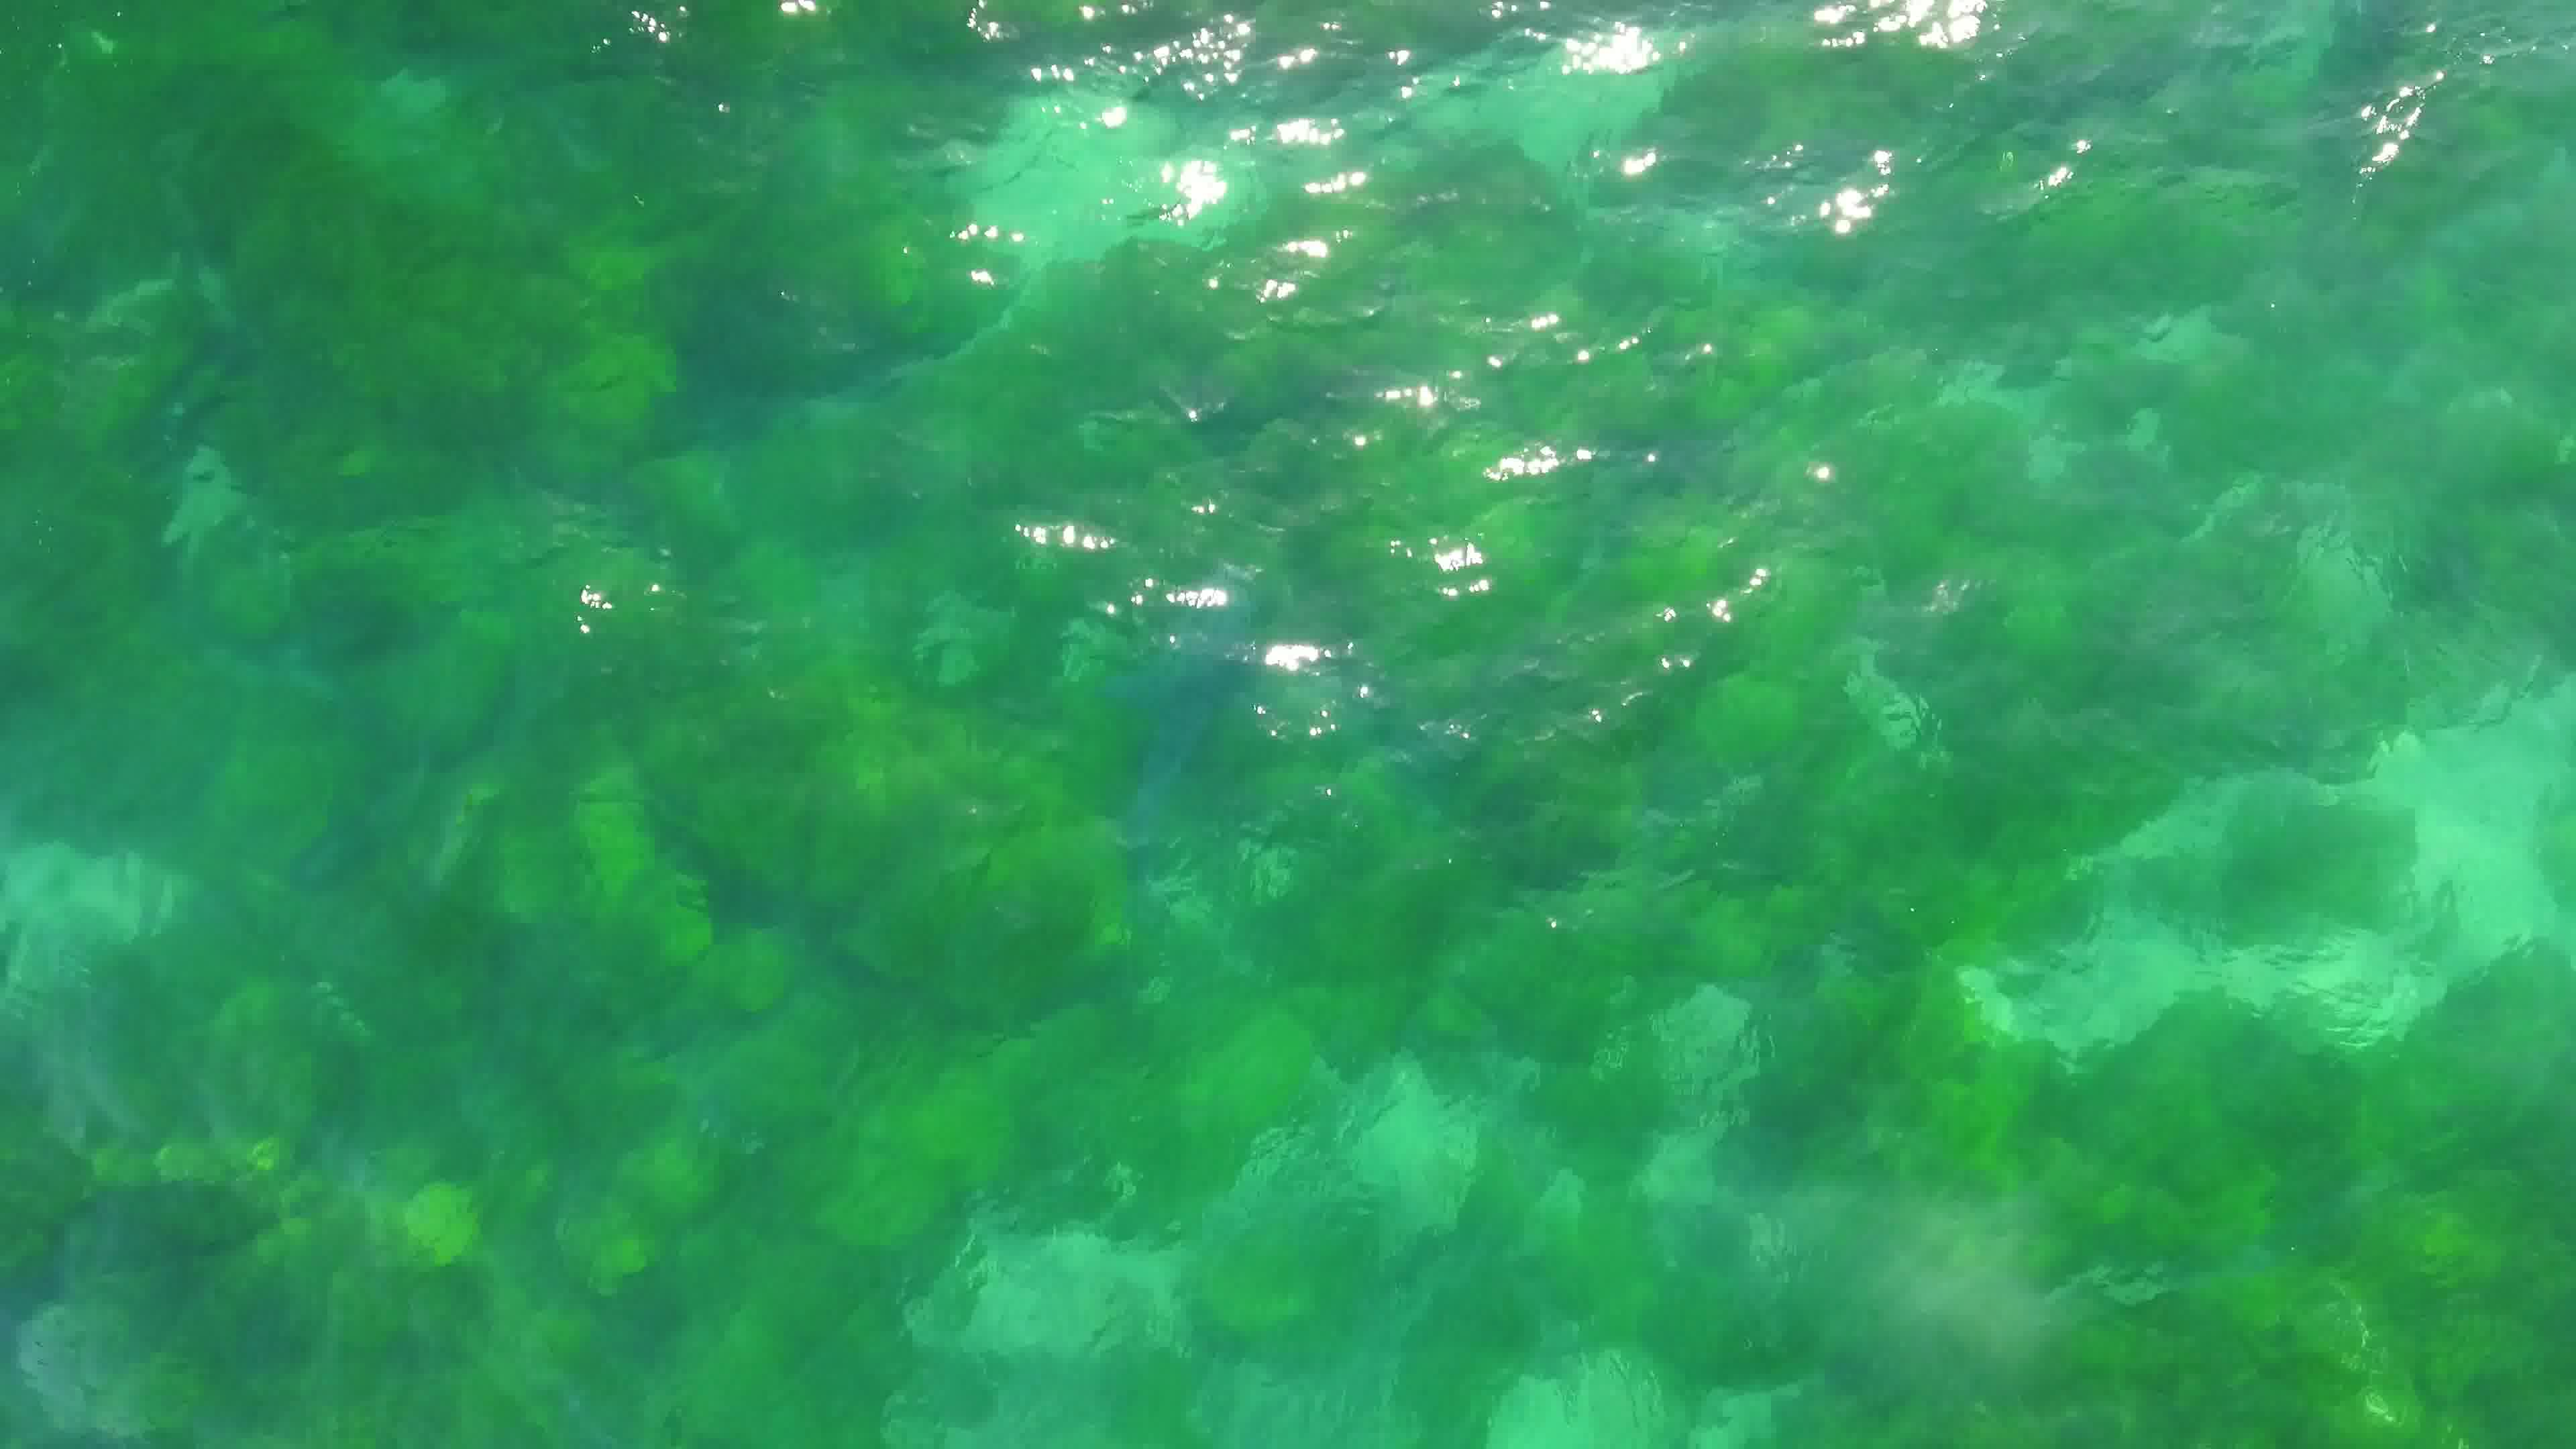shark: (1106, 563, 1281, 844)
